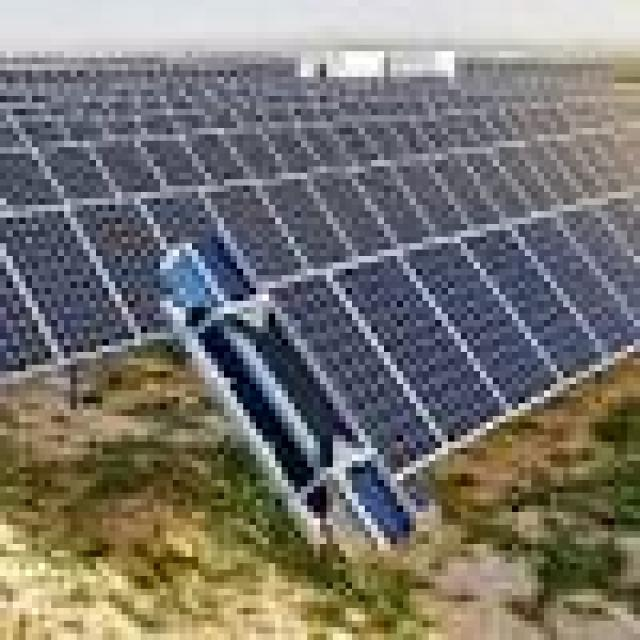clean-solar-panel: (1, 68, 640, 495)
